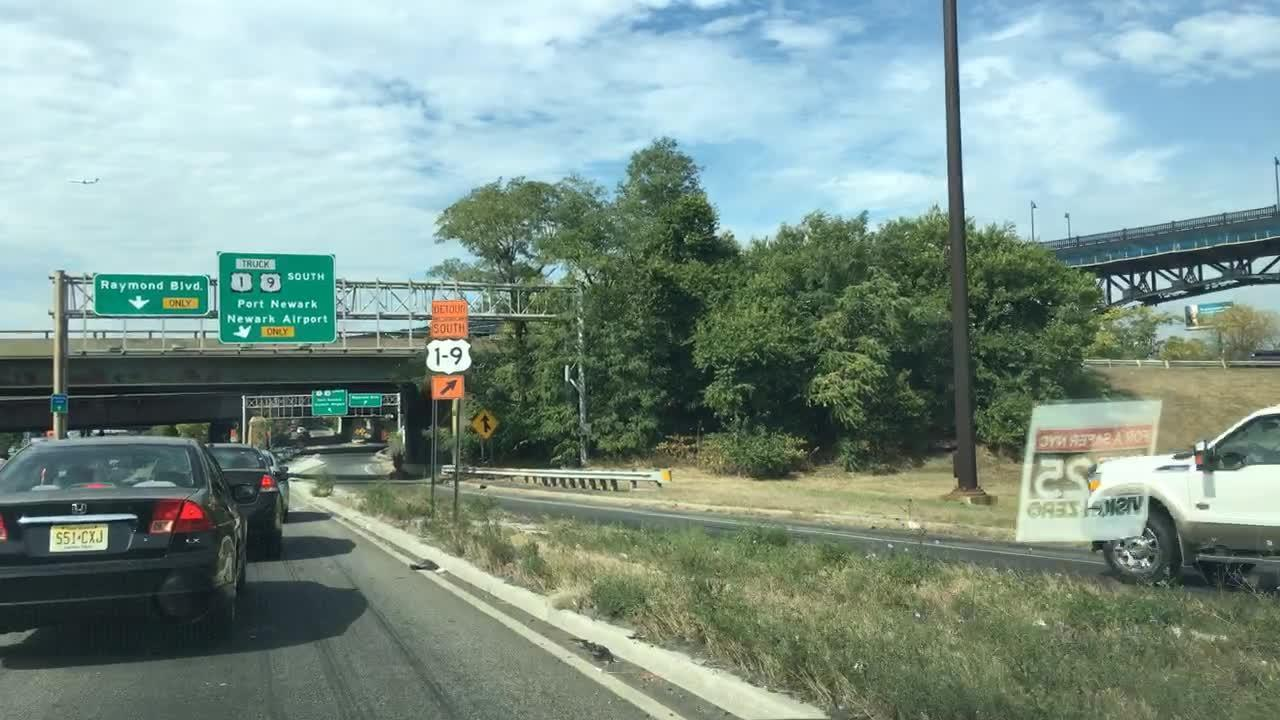Honda: (65, 494, 92, 523)
